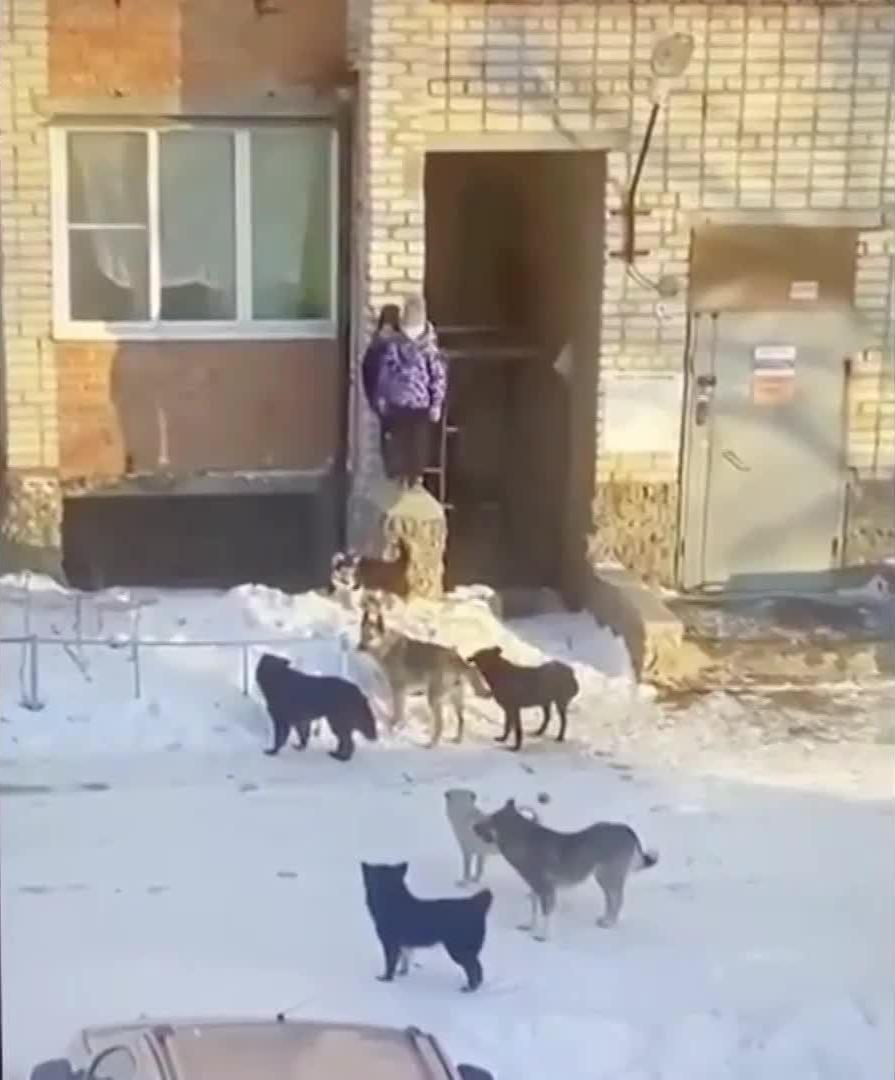normal_dogs: (472, 801, 654, 942), (353, 611, 498, 755), (361, 860, 499, 997), (256, 649, 381, 761), (471, 644, 584, 756), (328, 534, 417, 622)
